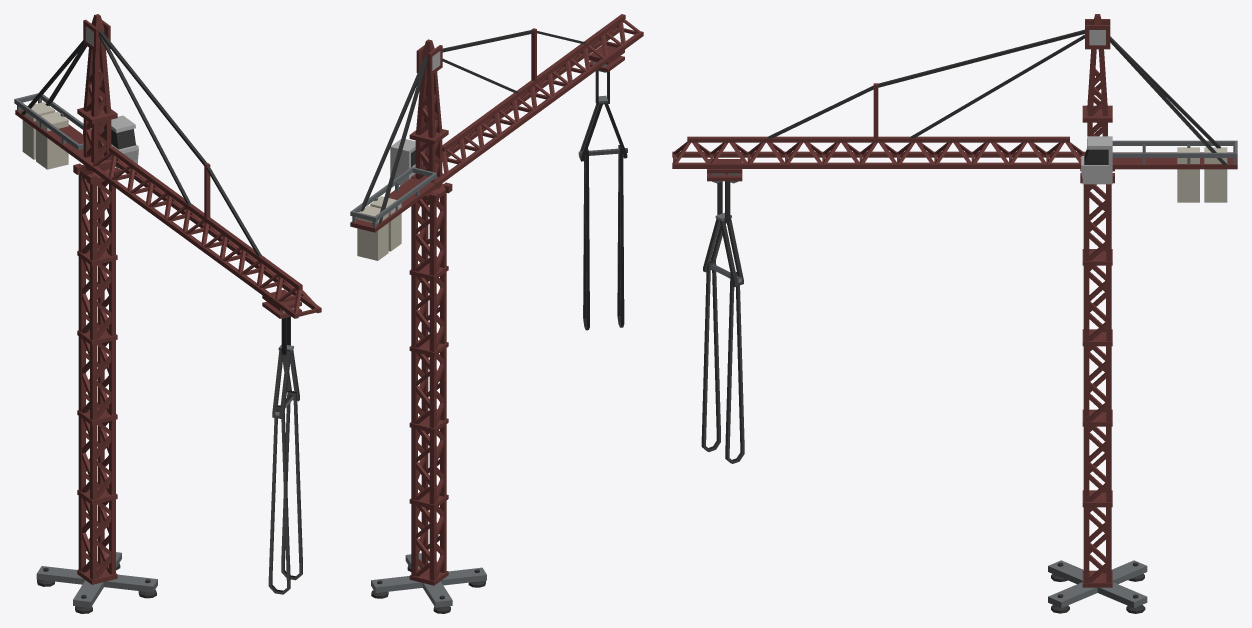
The model's file is DarkRedMetalMechLargeConstructionCrane1.fbx.
3 renders of one model, left to right at view 1: azimuth 30°, elevation 25°; view 2: azimuth 150°, elevation 25°; view 3: azimuth 270°, elevation 25°, orthographic. The views are drawn at different scales.
Visible parts, largest first — view 1: DarkRedMetalMechLargeConstructionCrane1, SupportCables; view 2: DarkRedMetalMechLargeConstructionCrane1, SupportCables; view 3: DarkRedMetalMechLargeConstructionCrane1, SupportCables.
Boxes of the visible parts, x1,y1,x2,y2 form: DarkRedMetalMechLargeConstructionCrane1: (14,14,321,613); SupportCables: (262,289,302,594); DarkRedMetalMechLargeConstructionCrane1: (350,14,643,613); SupportCables: (578,45,627,330); DarkRedMetalMechLargeConstructionCrane1: (672,14,1237,613); SupportCables: (701,159,744,463).
Size of the model in its own units: 775 by 4979 by 4407.
